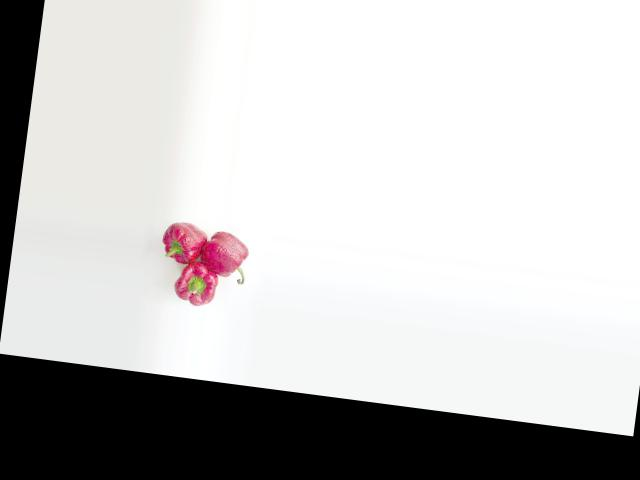bell_pepper: (201, 227, 261, 288)
